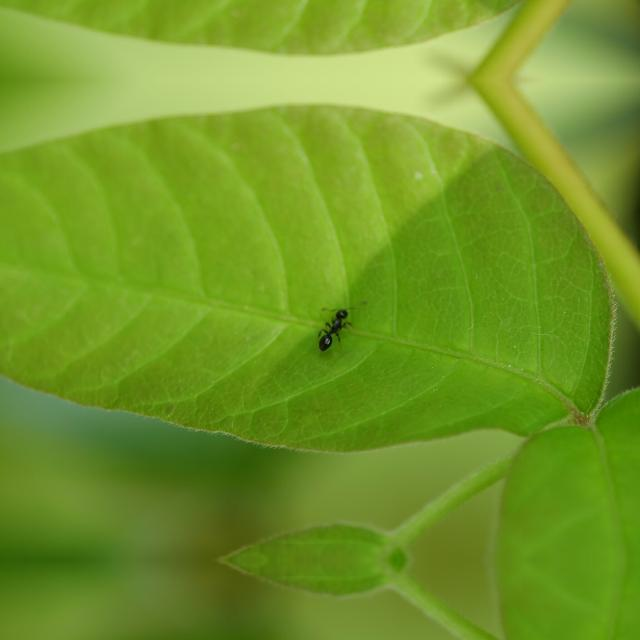Temnothorax: (304, 298, 364, 358)
